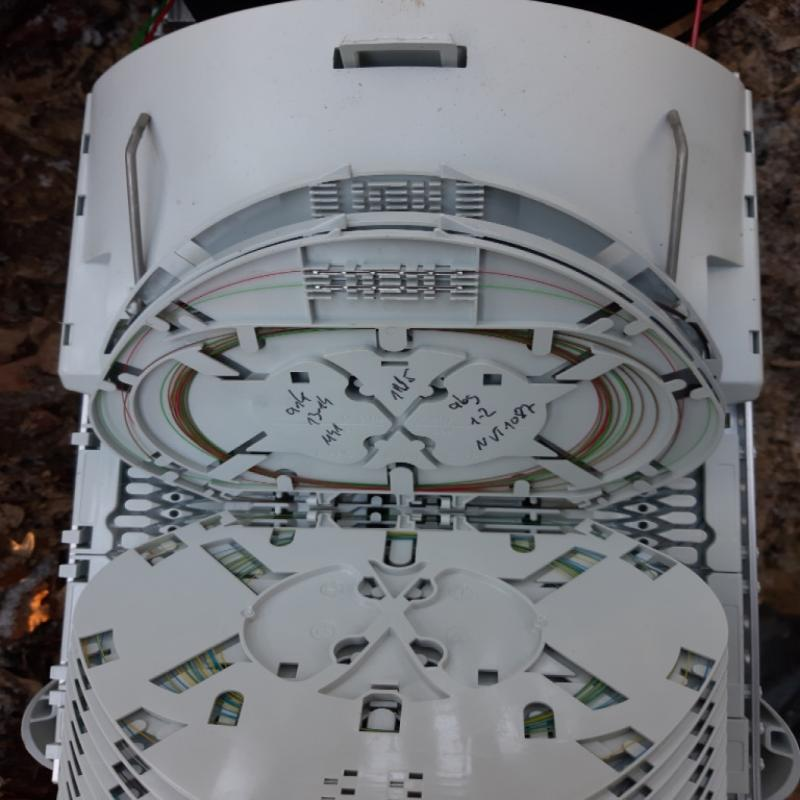NT-Muffen: (61, 3, 773, 800)
